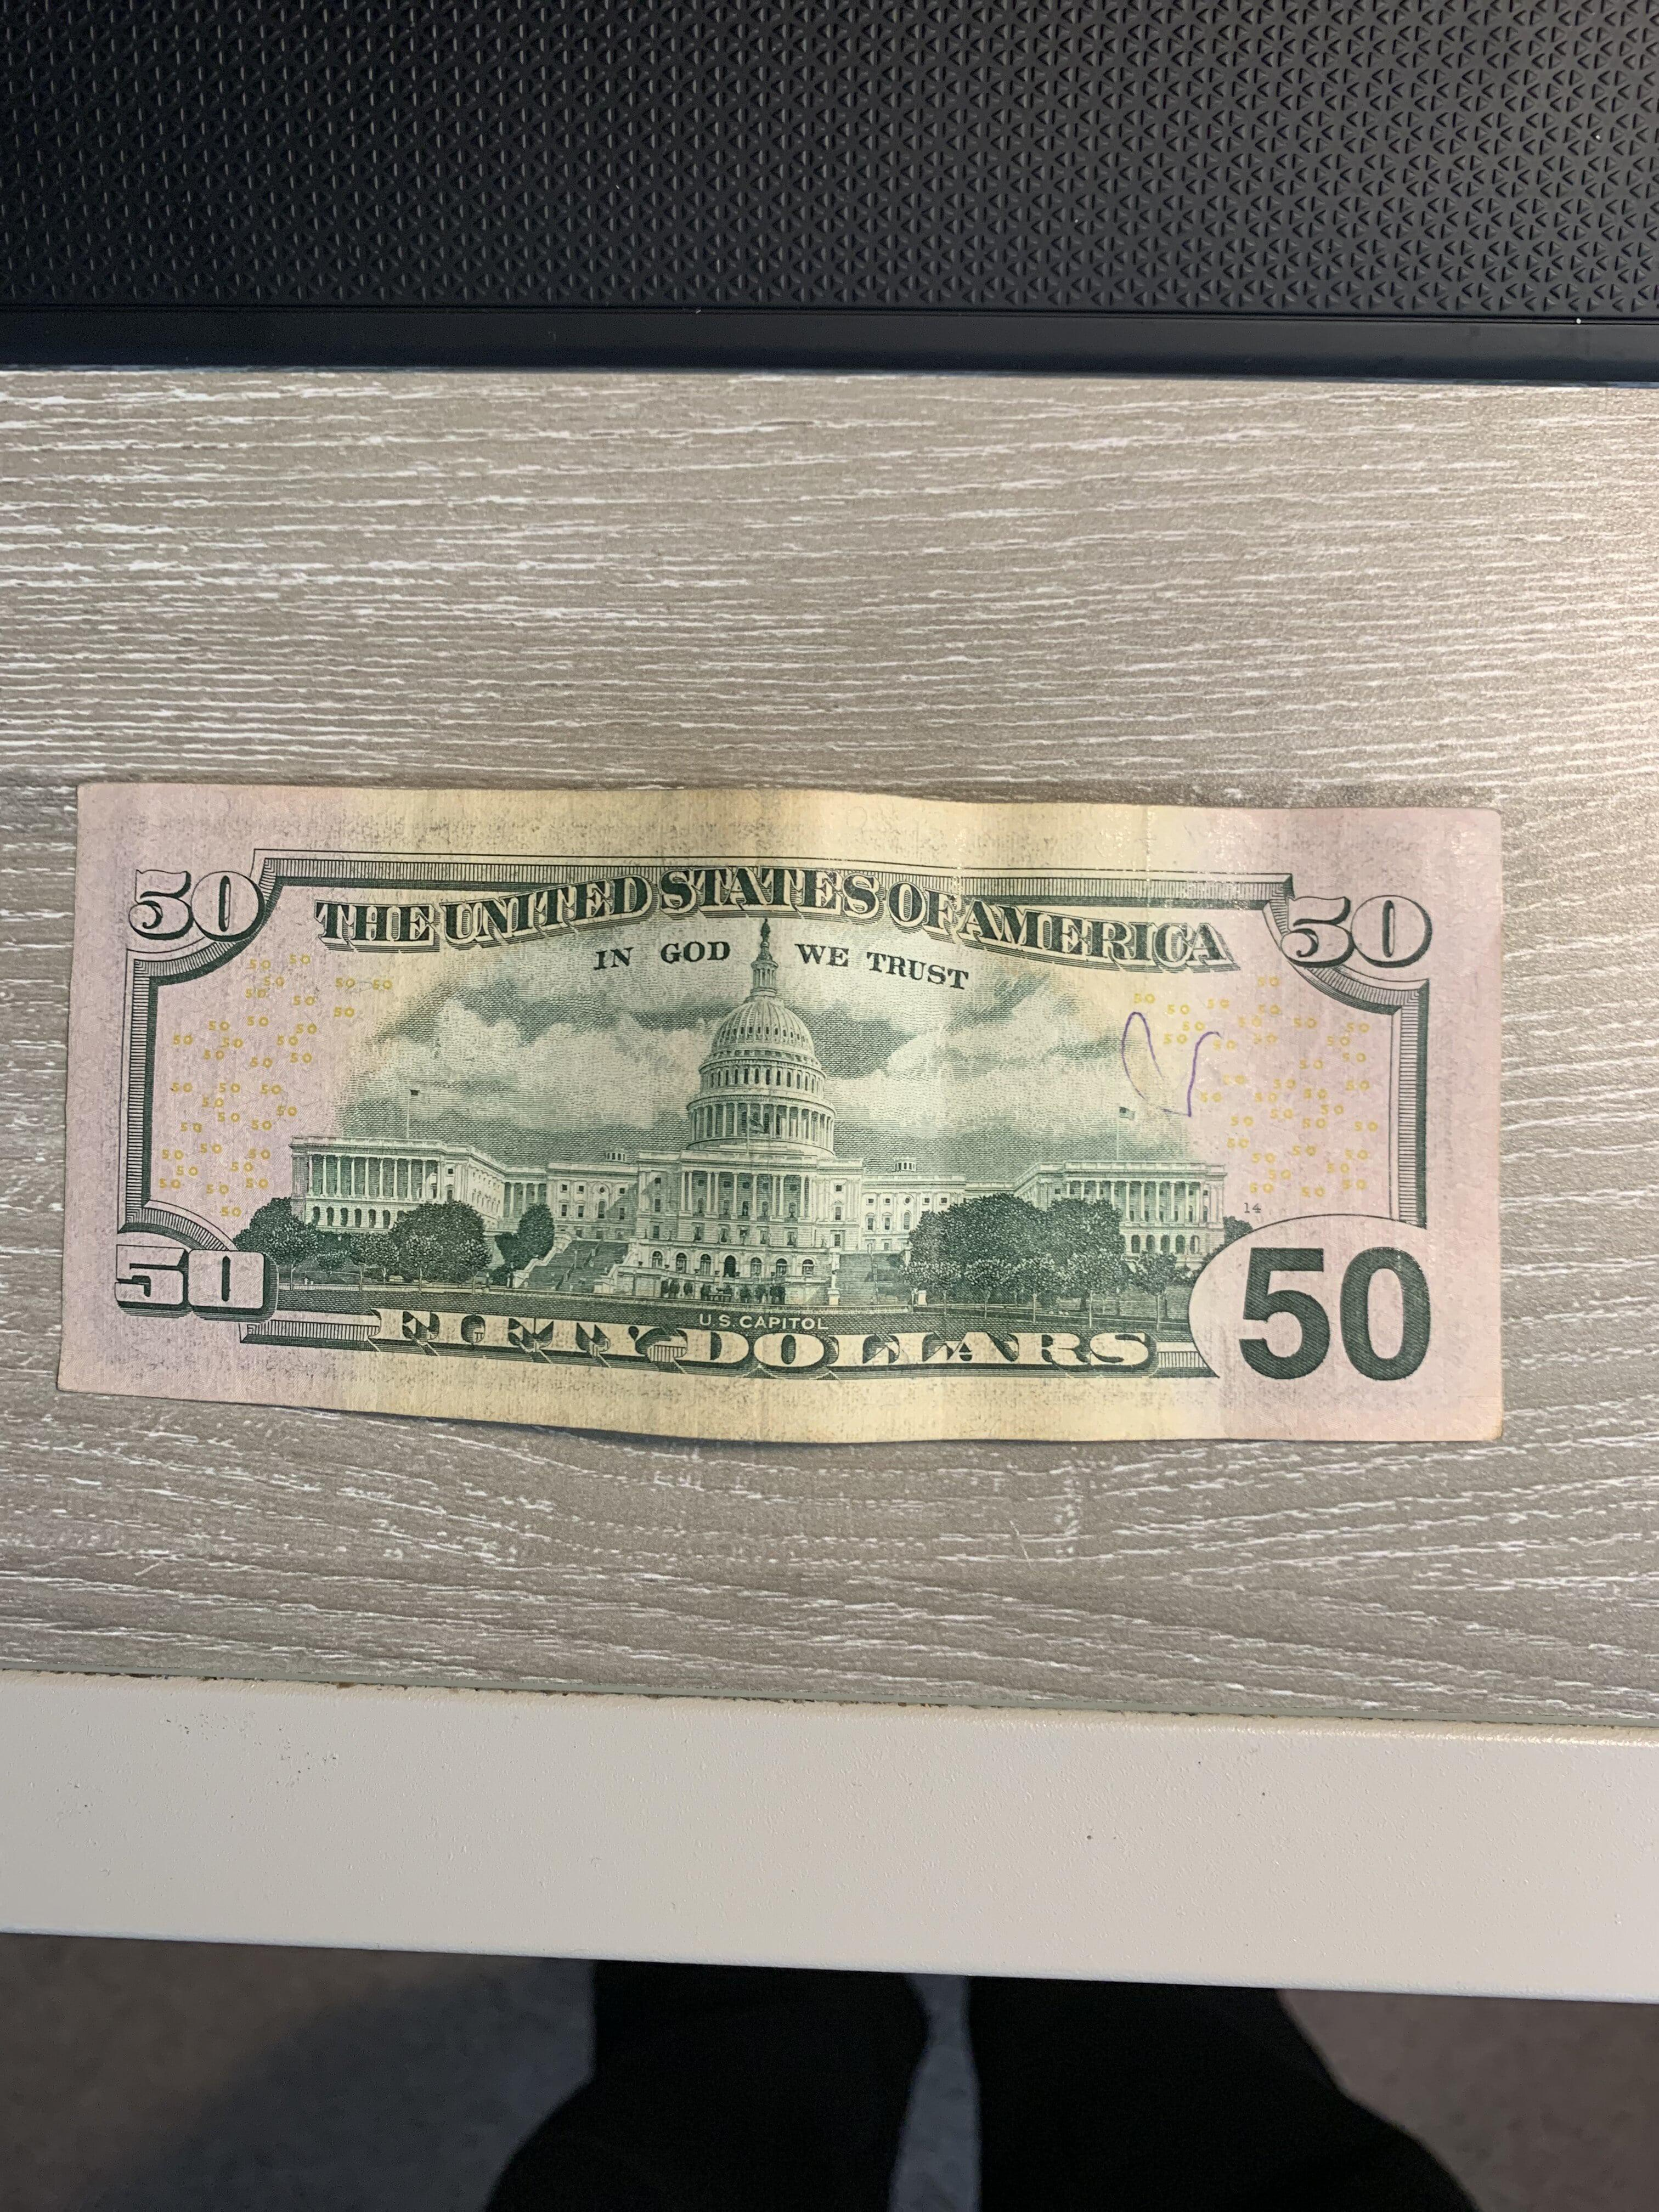FiftyBill: (35, 704, 1544, 1514)
